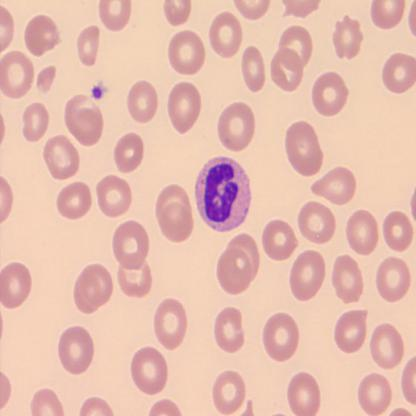Segmented neutrophil: (193, 154, 252, 234)
